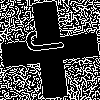J: (25, 25, 74, 56)
